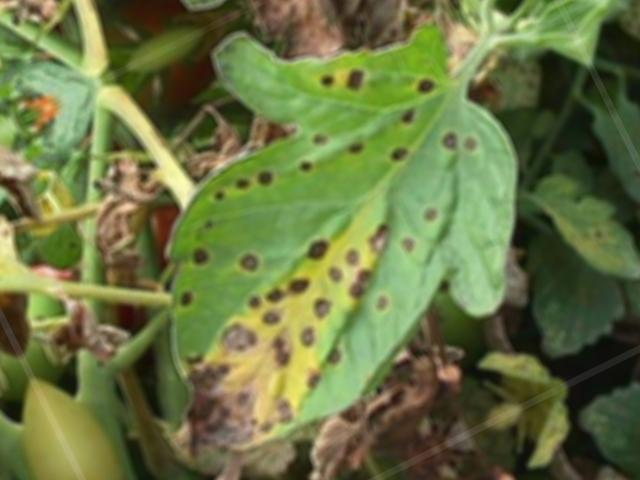Tomato leaf bacterial spot: (9, 0, 604, 480)
